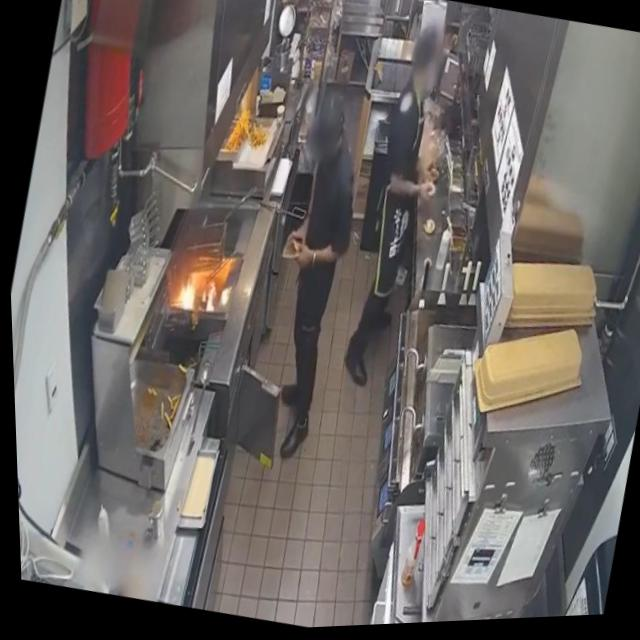fire: (168, 272, 200, 315), (195, 277, 219, 313)
